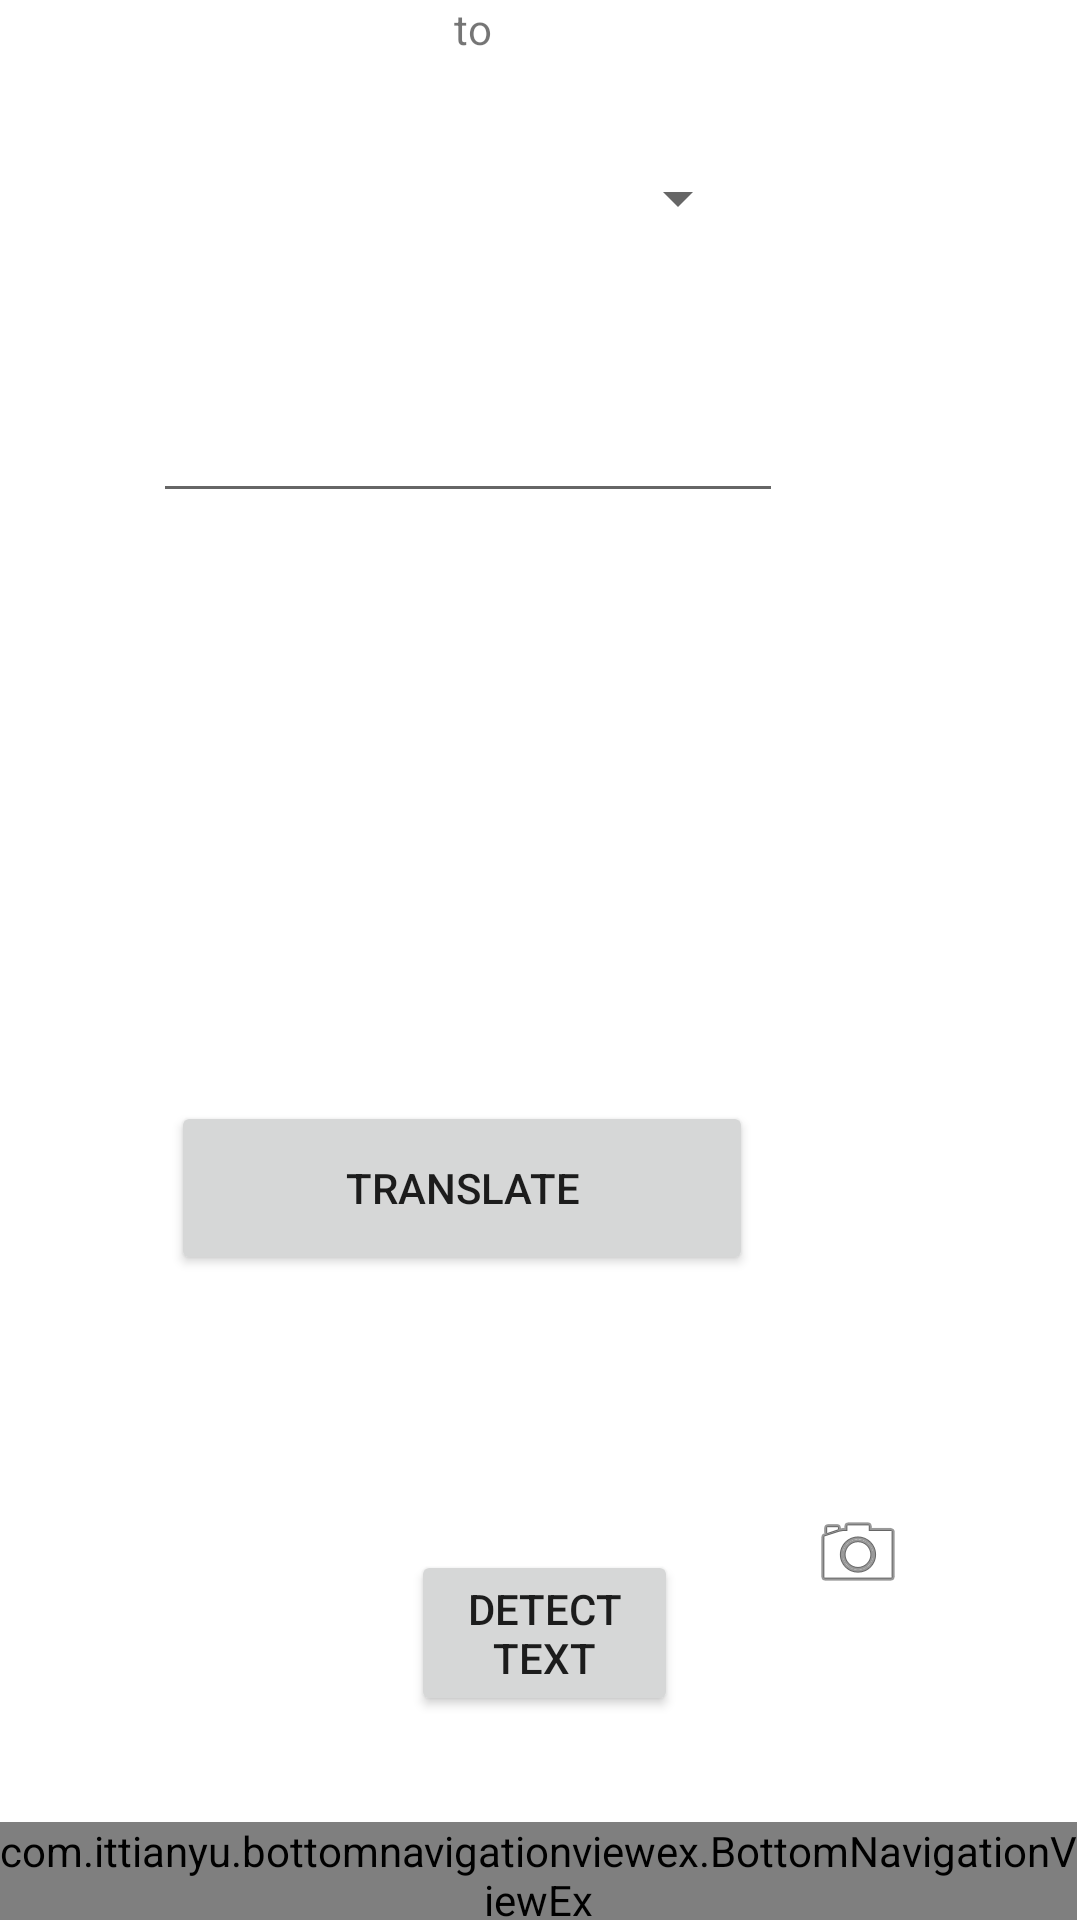

Icons on this 1080×1920 Android screen, each with the point to tap as point (x, y):
camera: point (858, 1551)
